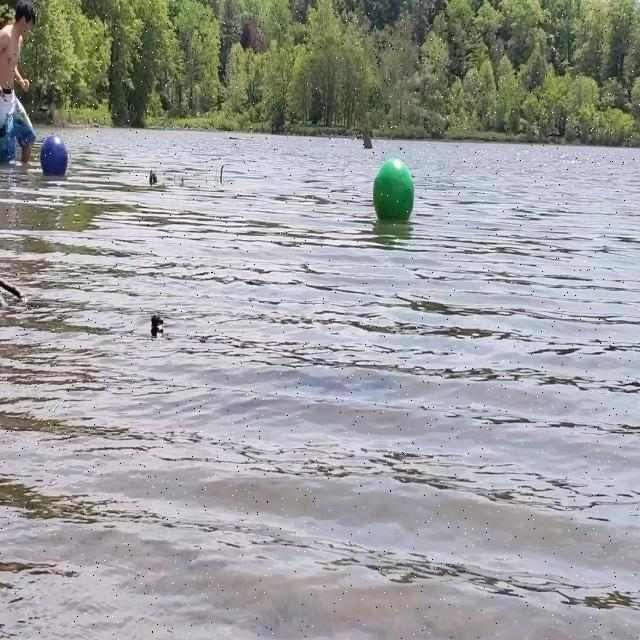buoy: (370, 152, 418, 230), (39, 132, 69, 184)
